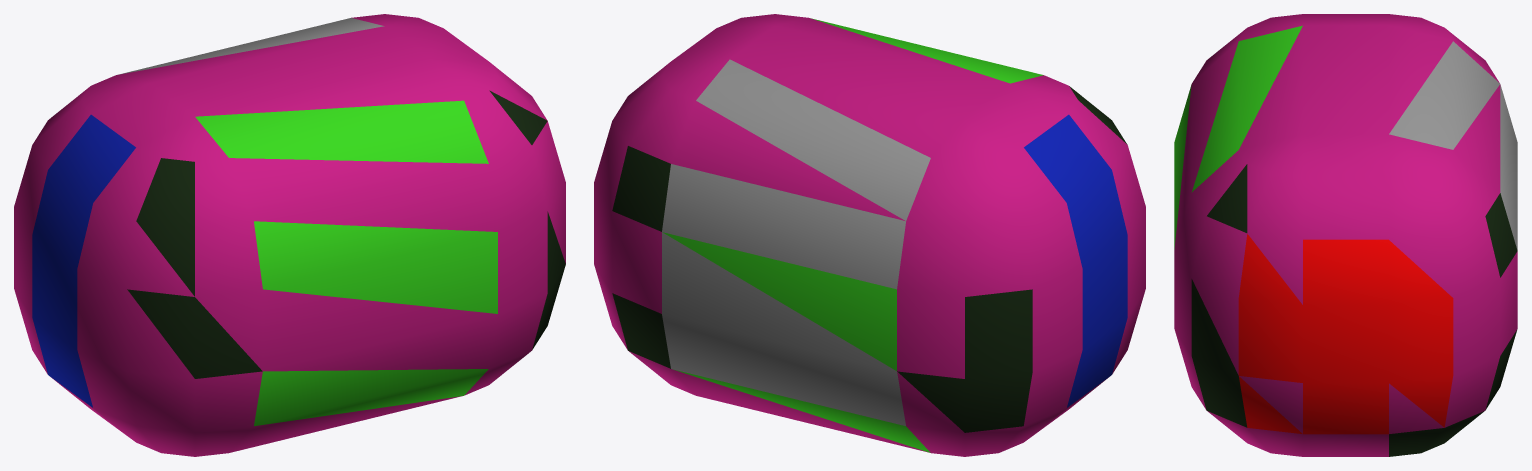
Rendered from SubmeshBox.FBX.
3 views of the same model, side by side, from view 1: azimuth 30°, elevation 25°; view 2: azimuth 150°, elevation 25°; view 3: azimuth 270°, elevation 25° (orthographic). The views are drawn at different scales.
Parts seen in each view (by area): view 1: ChamferBox001; view 2: ChamferBox001; view 3: ChamferBox001.
Part boxes in pixels (left/top/right/bottom): ChamferBox001: left=14, top=14, right=565, bottom=456; ChamferBox001: left=594, top=14, right=1145, bottom=456; ChamferBox001: left=1174, top=14, right=1517, bottom=456.
Size of the model in its own units: 60 by 40 by 40.
